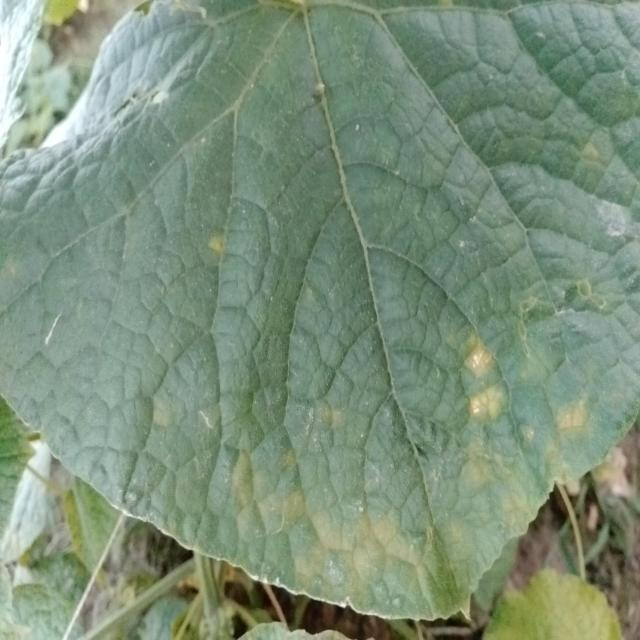cucumber_downy: (70, 80, 634, 619)
